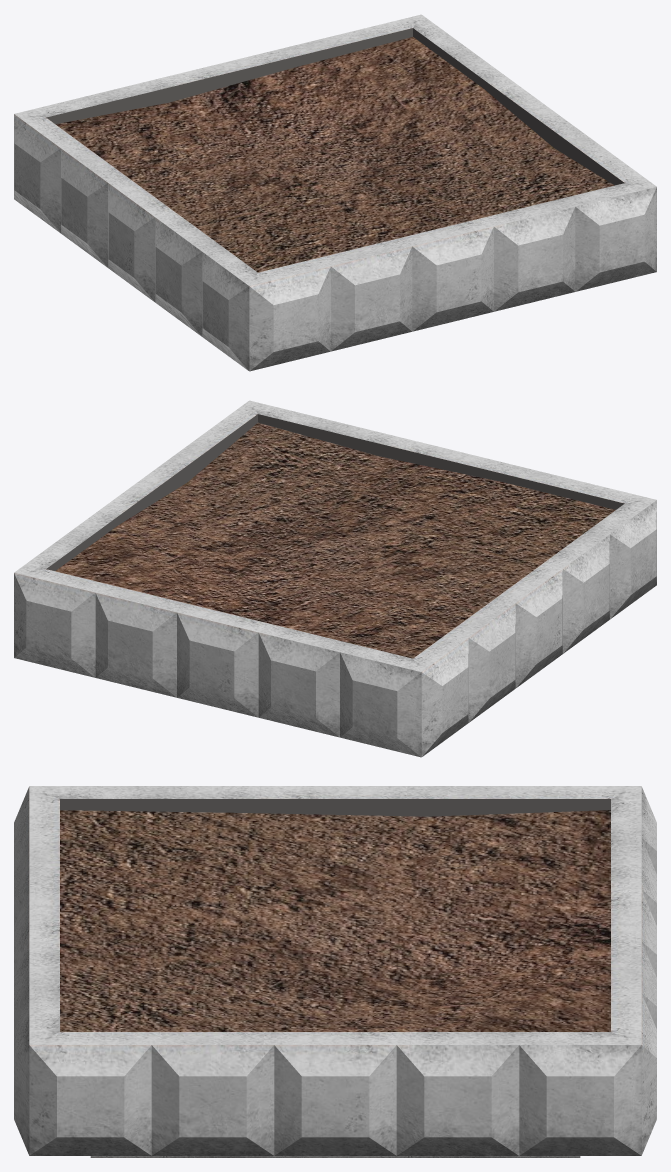
File: flowerbed.glb
The picture shows the model from 3 angles, top to bottom: view 1: azimuth 30°, elevation 25°; view 2: azimuth 150°, elevation 25°; view 3: azimuth 270°, elevation 25°; orthographic projection. The views are drawn at different scales.
Visible parts, largest first — view 1: flowerbed; view 2: flowerbed; view 3: flowerbed.
Boxes of the visible parts, x1,y1,x2,y2 form: flowerbed: [14, 14, 656, 371]; flowerbed: [14, 400, 656, 757]; flowerbed: [14, 786, 656, 1157].
Size of the model in its own units: 2.1 by 0.5 by 2.1.
Materials: 1 (1 with a texture image).
